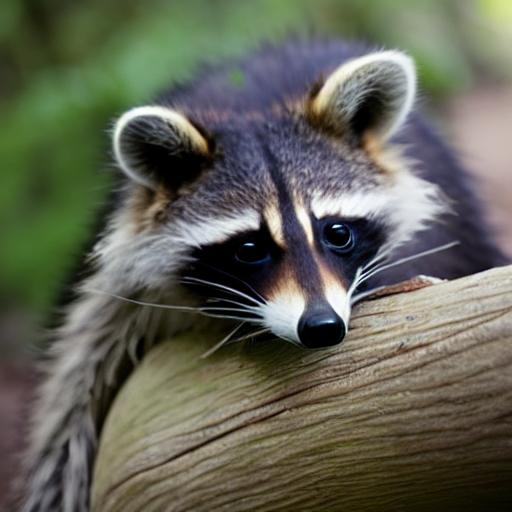raccoon: (42, 13, 490, 390)
